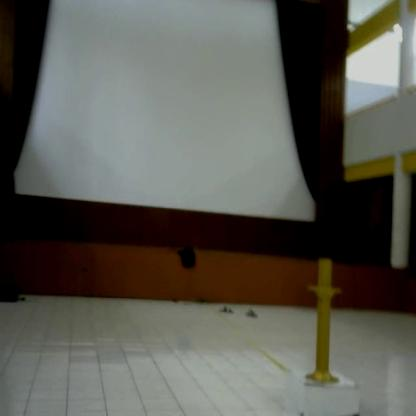pole: (300, 253, 347, 390)
